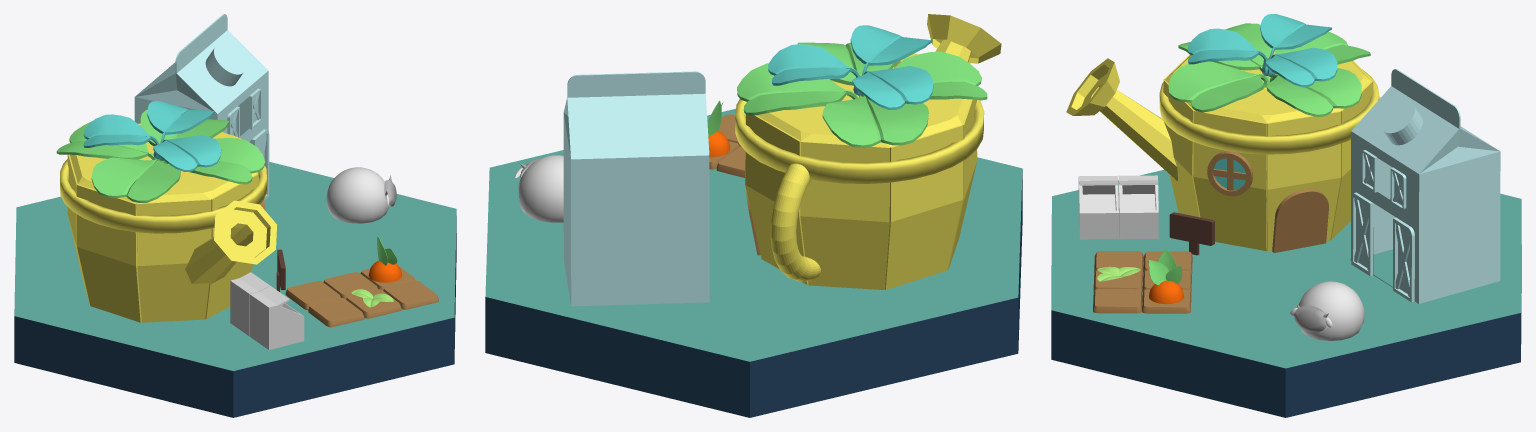
The model's file is Macro - farm barn lv3 WM1.fbx.
3 views of the same model, side by side, from view 1: azimuth 30°, elevation 25°; view 2: azimuth 150°, elevation 25°; view 3: azimuth 270°, elevation 25° (orthographic). The views are drawn at different scales.
Parts seen in each view (by area): view 1: Cylinder.154, Cube.020, Milk_Carton_packet.002, Cube.012, Cube.047, Plane.009, Cube.046, Sphere.011, Cube.138, Plane.014, Plane.015, Plane.016 (+7 smaller); view 2: Cylinder.154, Milk_Carton_packet.002, Cube.020, Cube.047, Plane.005, Cube.005, Plane.020, Plane.016, Sphere.011, Plane.009, Plane.010, Plane.015 (+4 smaller); view 3: Cylinder.154, Milk_Carton_packet.002, Cube.020, Cube.012, Cube.047, Plane.014, Cube.033, Cube.045, Plane.020, Cube.138, Sphere.011, Cube.137 (+11 smaller).
Part boxes in pixels (x1,y1,x2,y2): Cylinder.154: [14, 162, 456, 417]; Cube.020: [67, 123, 258, 322]; Milk_Carton_packet.002: [134, 14, 269, 200]; Cube.012: [285, 265, 438, 327]; Cube.047: [60, 159, 266, 233]; Plane.009: [91, 157, 180, 202]; Cube.046: [214, 200, 276, 264]; Sphere.011: [326, 167, 388, 223]; Cube.138: [249, 286, 304, 349]; Plane.014: [164, 138, 265, 184]; Plane.015: [153, 135, 221, 171]; Plane.016: [83, 114, 158, 159]; Cylinder.154: [485, 108, 1022, 417]; Milk_Carton_packet.002: [563, 71, 709, 306]; Cube.020: [745, 53, 977, 289]; Cube.047: [735, 99, 984, 183]; Plane.005: [822, 95, 928, 147]; Cube.005: [770, 163, 820, 281]; Plane.020: [737, 63, 857, 115]; Plane.016: [852, 66, 933, 109]; Sphere.011: [518, 155, 563, 222]; Plane.009: [894, 51, 987, 100]; Plane.010: [768, 44, 860, 95]; Plane.015: [850, 25, 932, 75]; Cylinder.154: [1051, 169, 1521, 417]; Milk_Carton_packet.002: [1350, 69, 1500, 303]; Cube.020: [1163, 54, 1373, 250]; Cube.012: [1093, 251, 1192, 313]; Cube.047: [1159, 69, 1379, 154]; Plane.014: [1168, 61, 1269, 112]; Cube.033: [1272, 189, 1328, 252]; Cube.045: [1099, 90, 1177, 181]; Plane.020: [1267, 68, 1361, 117]; Cube.138: [1078, 175, 1118, 239]; Sphere.011: [1298, 281, 1364, 340]; Cube.137: [1118, 175, 1158, 239].
Size of the model in its own units: 197 by 94.02 by 172.
